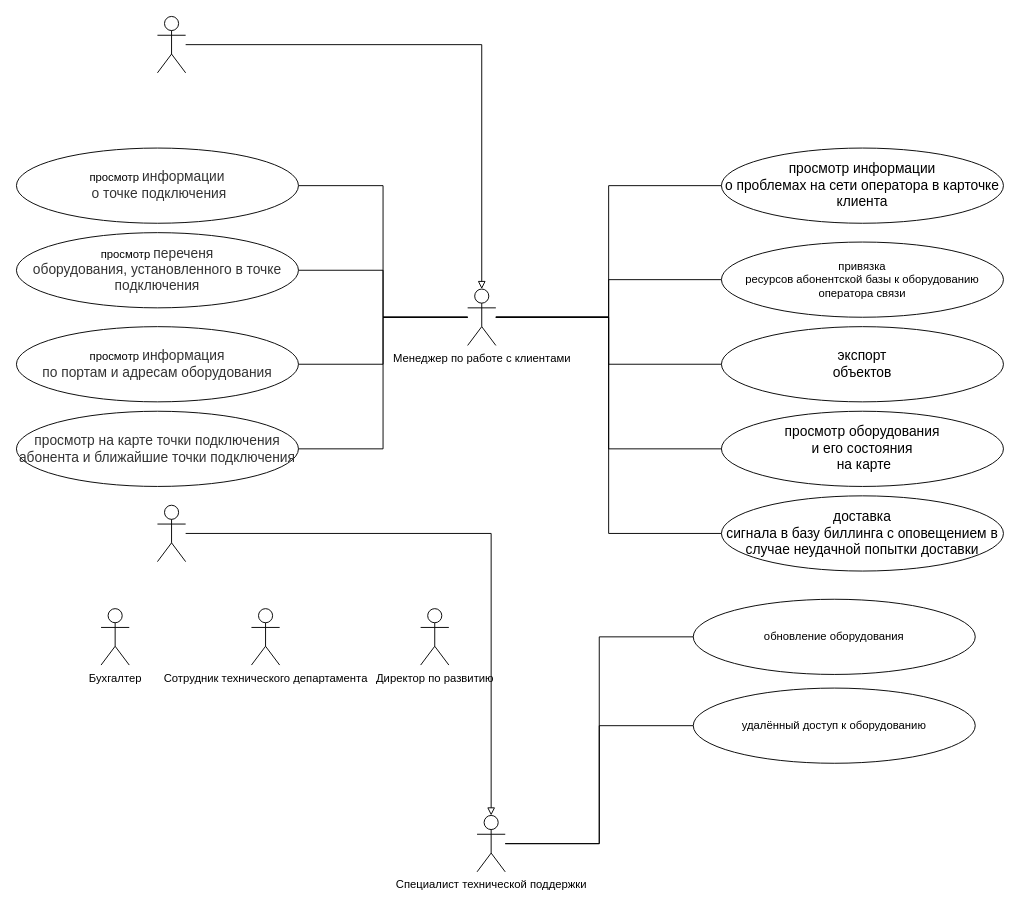
Some shapes in this 1020 by 908 pixel diagram are drawn without their labels. The centre of each missing label's shape, as x and y in pixels:
Руководитель отдела по работе с клиентами: (x=171, y=44)
Руководитель отдела технической поддержки: (x=171, y=533)
